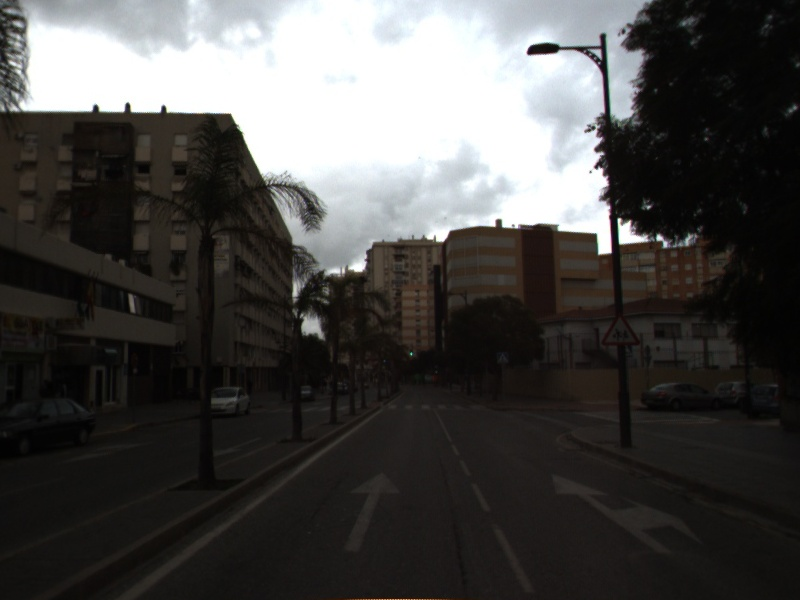STRAIGHT: (340, 470, 403, 555)
STRAIGHT_RIGHT: (550, 471, 706, 556)
